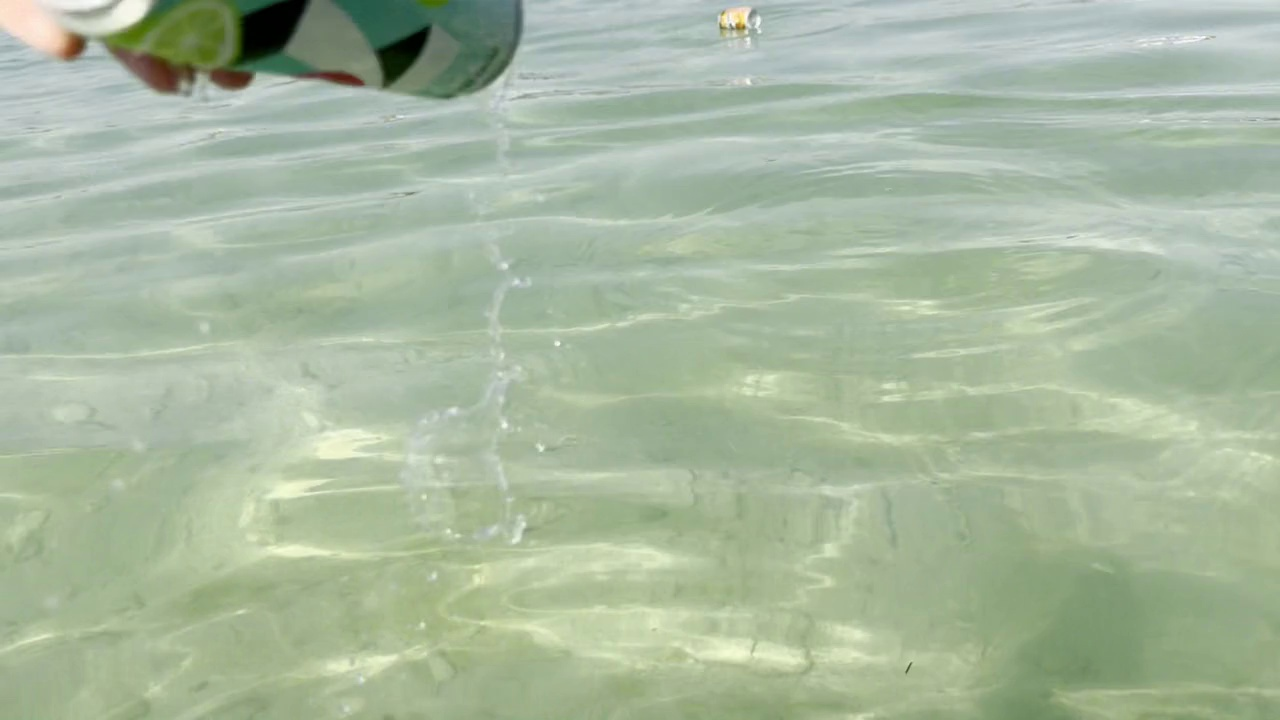debris: (708, 3, 764, 34)
